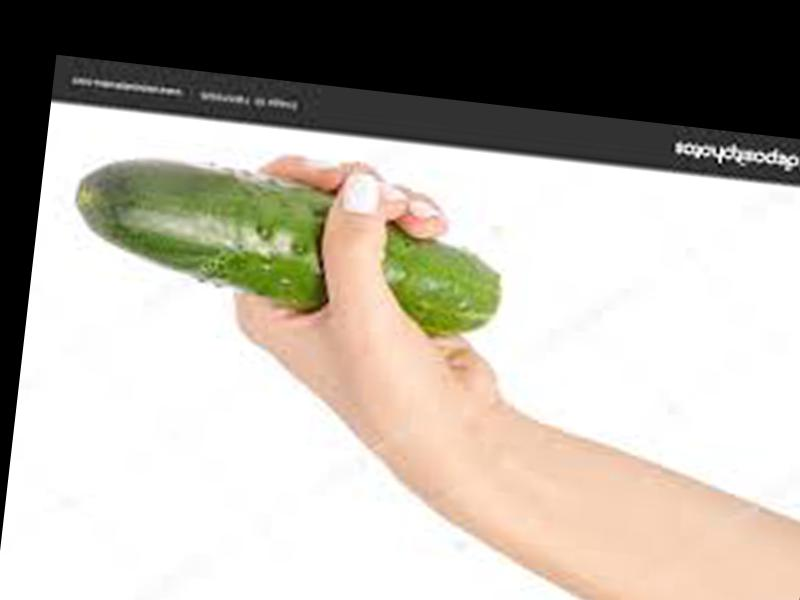Cucumber: (61, 150, 509, 339)
